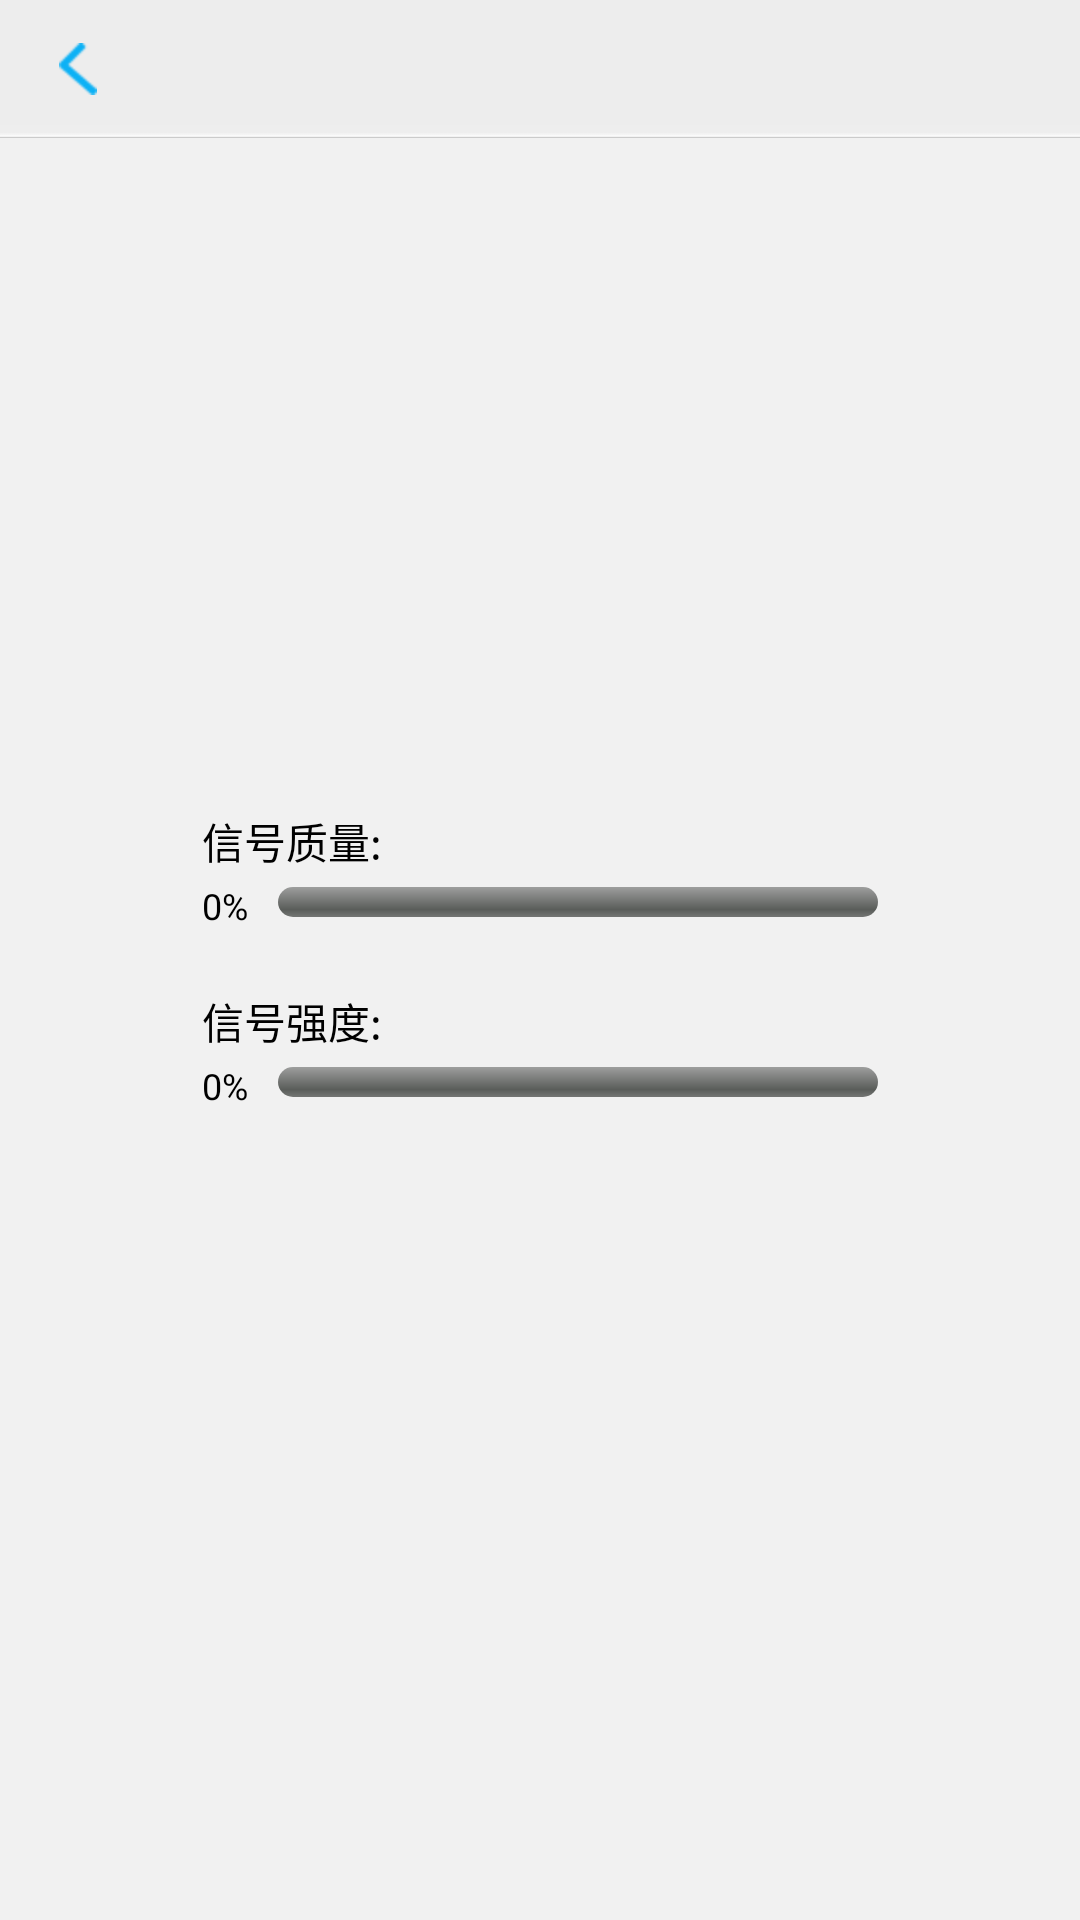

Icons on this 1080px×1920px Android screen, each with its box as (x1, y1, x2, y2):
bnt back nor: (59, 43, 97, 95)
